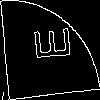E: (25, 25, 71, 63)
